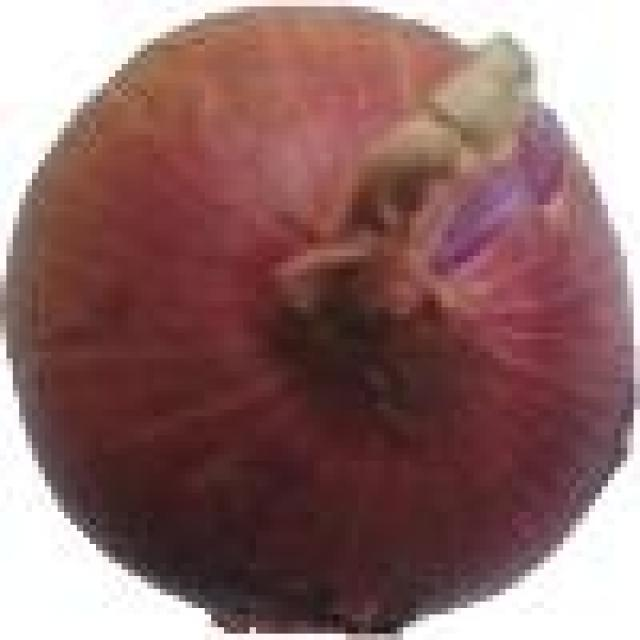Onion: (6, 6, 621, 627)
